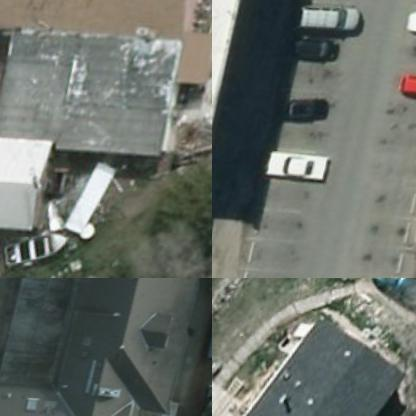boat: (0, 220, 82, 277)
camping car: (66, 162, 127, 246)
car: (260, 150, 335, 196), (299, 4, 364, 48), (363, 278, 415, 323), (287, 37, 346, 74), (282, 92, 334, 132), (396, 77, 415, 117), (200, 311, 211, 374)
